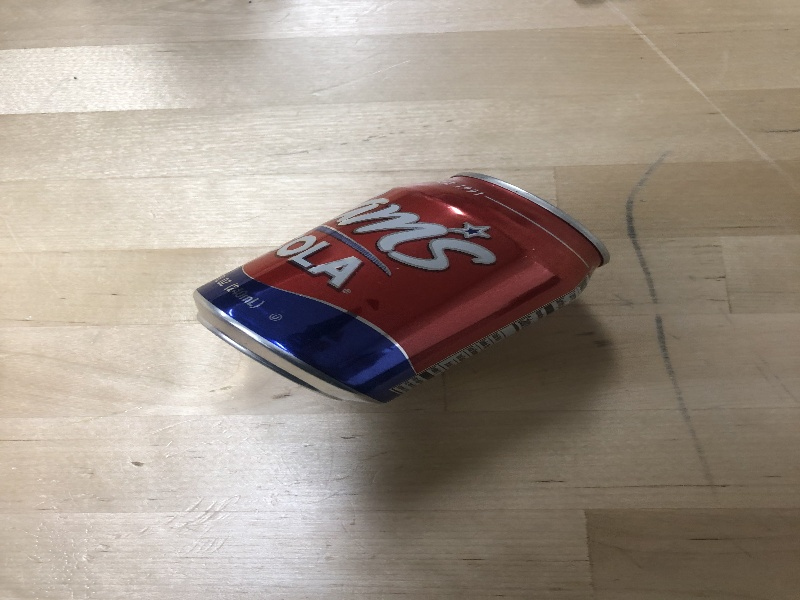metal: (188, 165, 620, 410)
